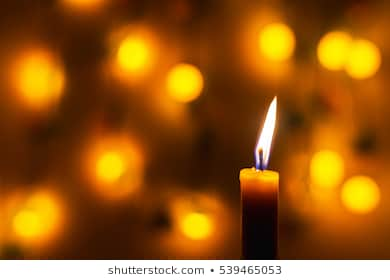Fire: (252, 94, 277, 169)
